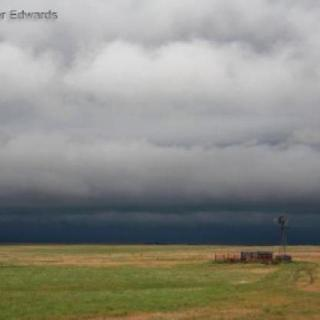Nimbostratus: (0, 0, 320, 232)
